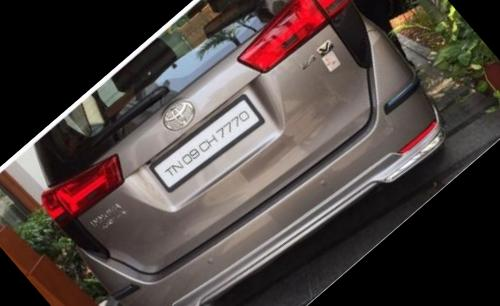plate: (142, 79, 287, 215)
